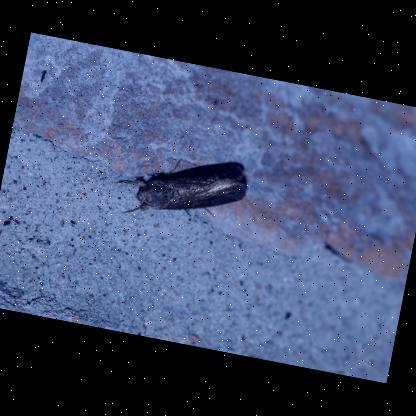Fall Armyworm Moth: (107, 138, 253, 238)
